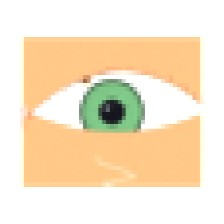foreign_body_visible: (71, 68, 101, 92)
